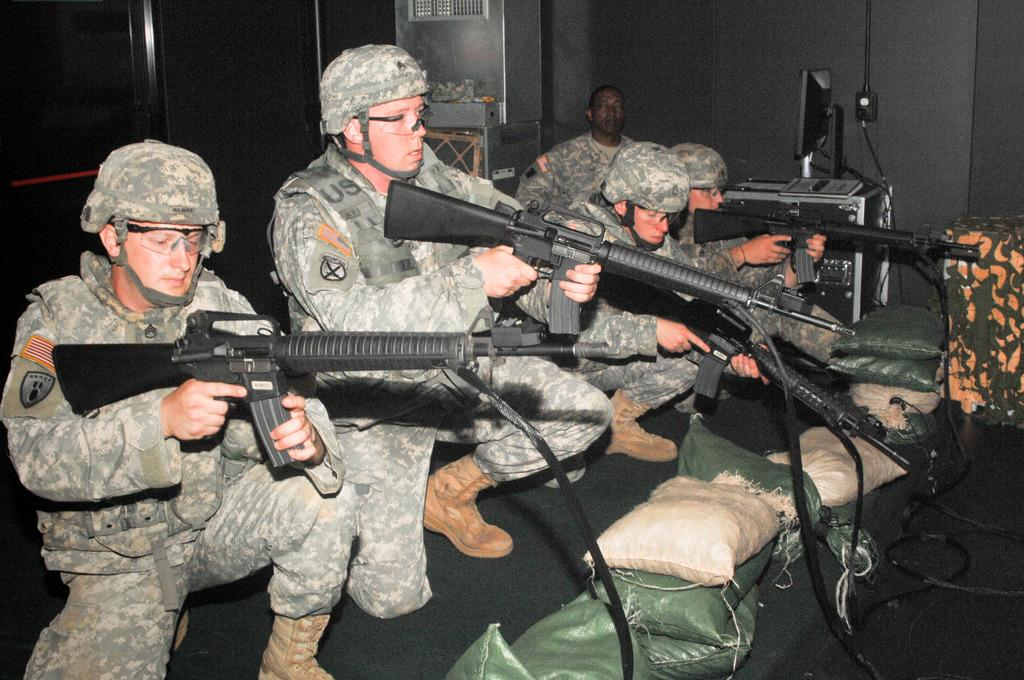Rifle: (52, 312, 603, 465), (378, 175, 858, 340), (690, 205, 993, 286)
